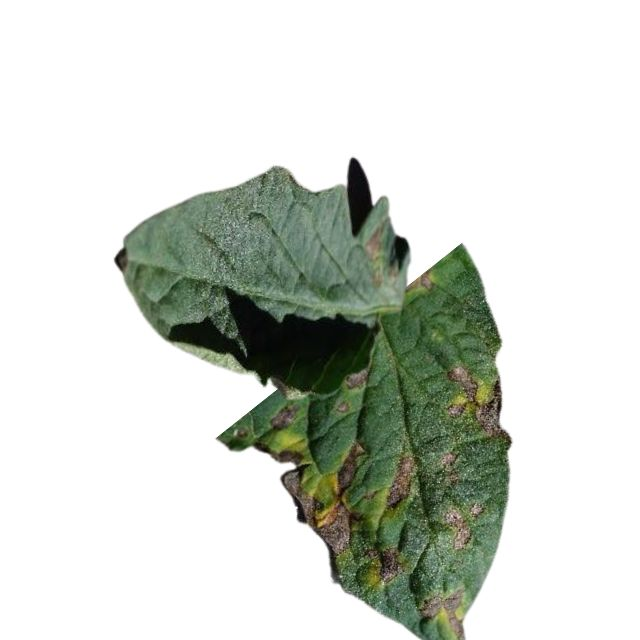Early_blight: (280, 442, 370, 558), (446, 362, 514, 445), (419, 588, 468, 640), (364, 222, 399, 287), (442, 502, 482, 550), (384, 454, 414, 511), (257, 444, 306, 465), (378, 546, 402, 583), (405, 266, 434, 296), (269, 402, 298, 430), (443, 448, 460, 489), (343, 369, 369, 389), (335, 400, 354, 414)
